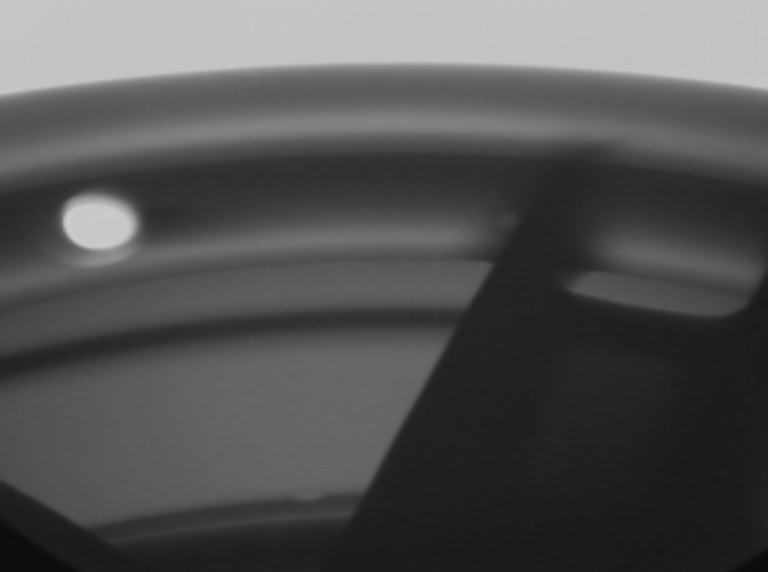defect: (291, 480, 330, 514)
